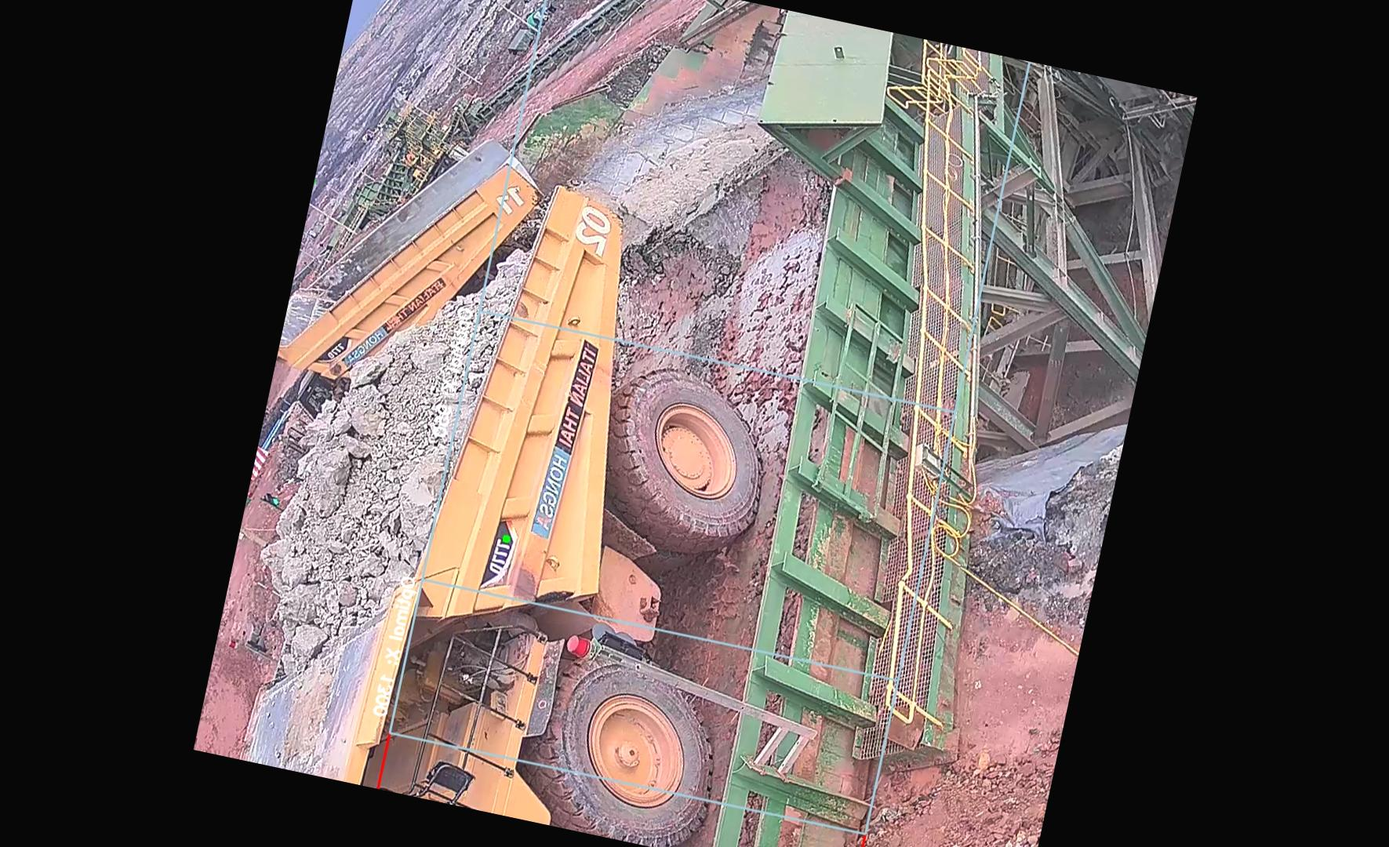company: (518, 325, 604, 568)
full_load: (250, 238, 513, 656)
mining_truck: (205, 129, 835, 847)
tail_number: (563, 194, 623, 261)
truck_size: (476, 514, 516, 588)
